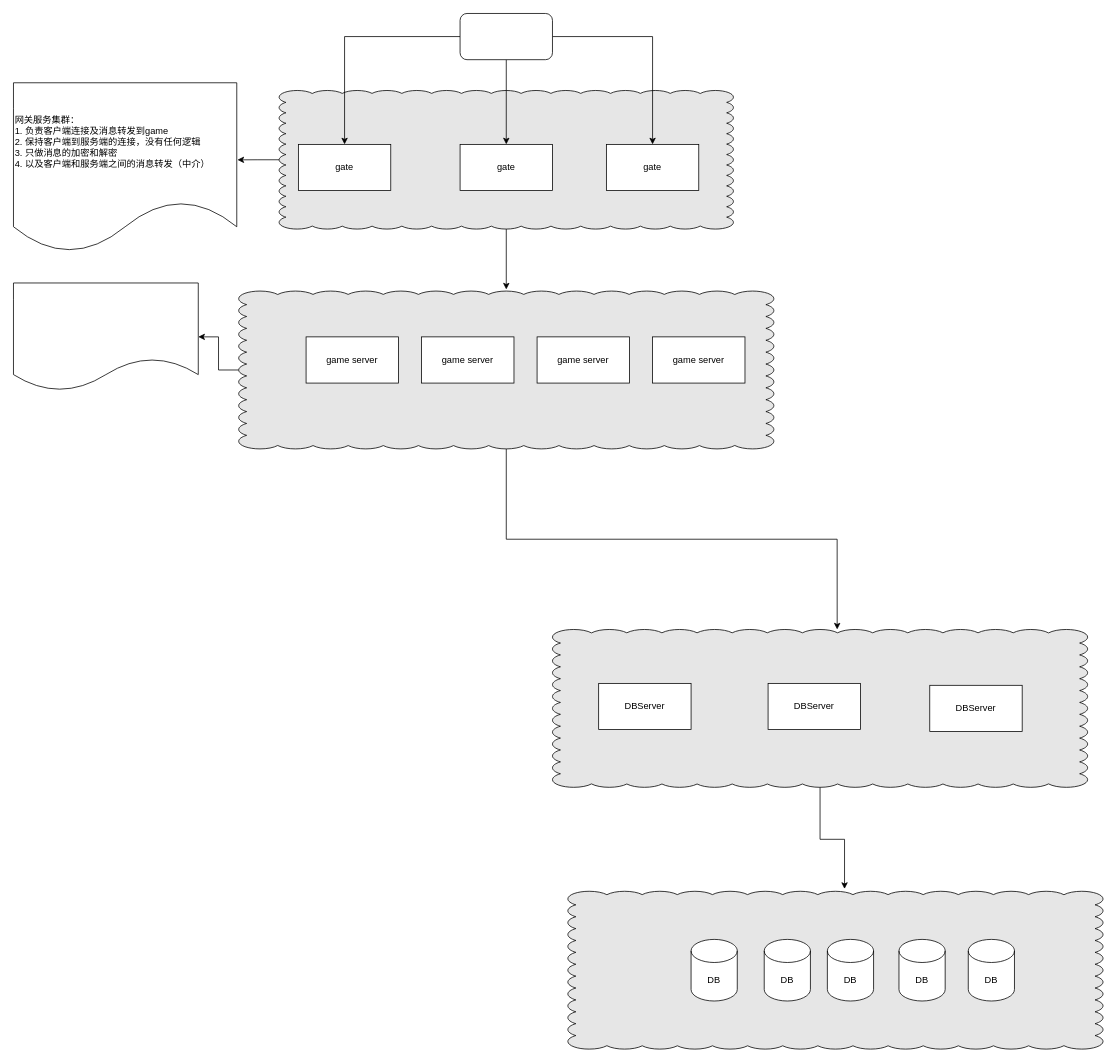
This 1117x1063 diagram has some shape labels left out. The centre of each missing label's shape, as x and y in pixels:
client: pixel 505 36
游戏服务： 1. 提供游戏服务 2. 常规只需要单线程，游戏的瓶颈不在于cpu，是否有必要多线程: pixel 105 336
